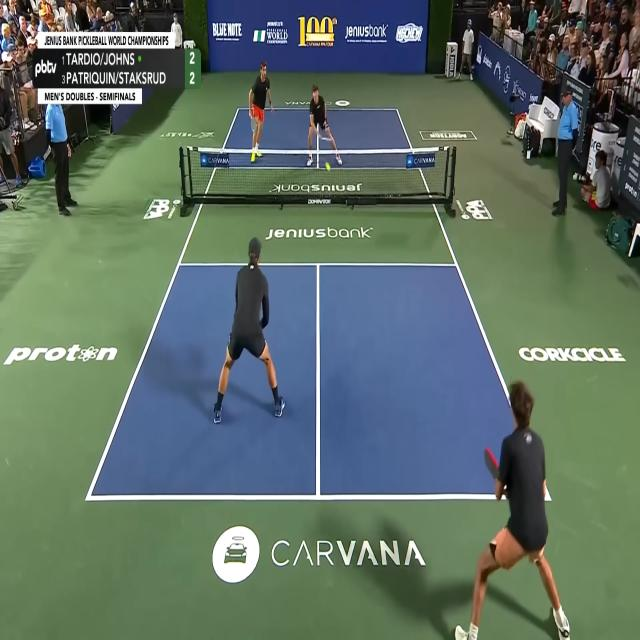ball: (325, 161, 331, 171)
